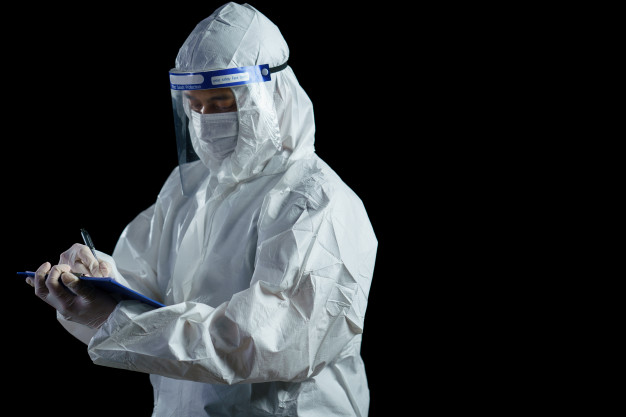Coverall: (89, 4, 372, 417)
Face_Shield: (166, 67, 287, 198)
Gloves: (24, 262, 115, 327), (59, 243, 119, 278)
with_mask: (190, 112, 236, 158)
